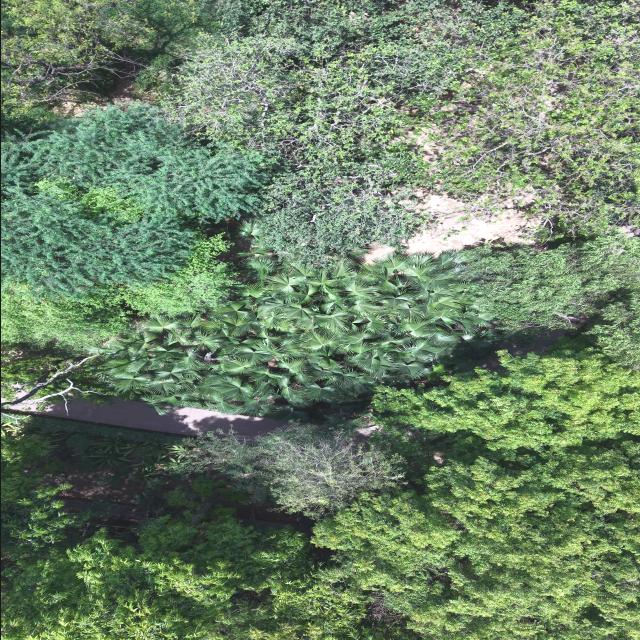DRY_AREA: (13, 398, 285, 436), (14, 399, 284, 436), (405, 190, 541, 255)
VEGETATION_TREE: (1, 0, 639, 639), (3, 0, 638, 346), (4, 345, 639, 639), (9, 345, 639, 639), (164, 0, 638, 264), (313, 348, 639, 639), (3, 420, 380, 639), (313, 434, 638, 639), (94, 254, 491, 418), (1, 106, 270, 346), (165, 33, 422, 264), (1, 106, 270, 299), (422, 0, 639, 233), (4, 518, 380, 639), (1, 414, 224, 562), (1, 0, 229, 127), (374, 343, 639, 450), (1, 234, 242, 347), (1, 180, 200, 299), (463, 233, 639, 367), (174, 425, 403, 517), (1, 0, 158, 126), (463, 234, 639, 330), (1, 423, 84, 558), (124, 234, 242, 315), (1, 290, 135, 348), (1, 344, 110, 409), (135, 0, 212, 45), (1, 344, 64, 397)
